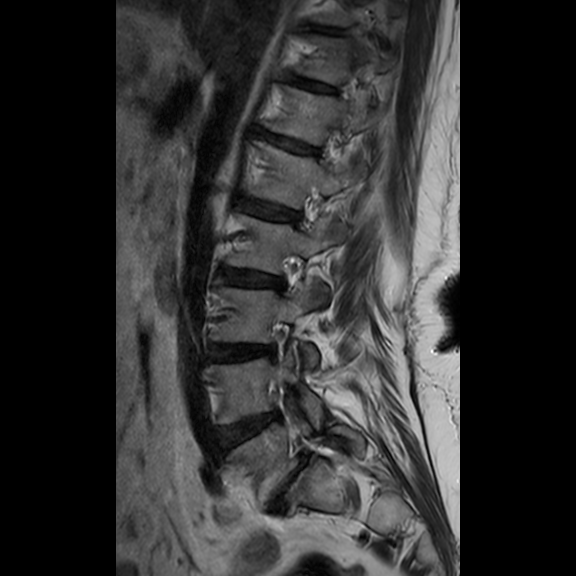RFS0: (270, 245, 318, 309)
RFS1: (254, 313, 302, 366)
